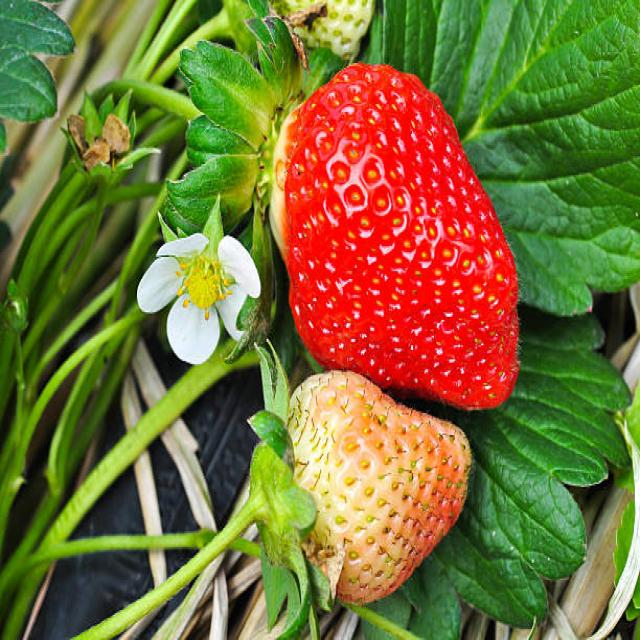Healthy Fruit: (281, 66, 518, 410), (287, 368, 472, 605)
